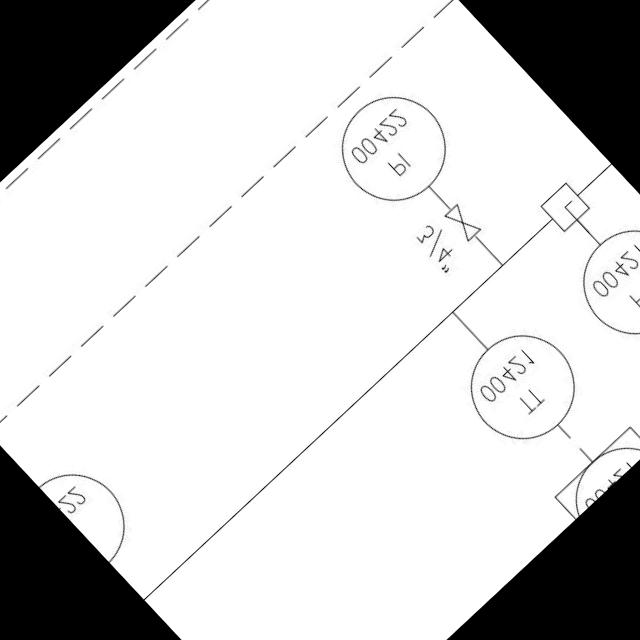GV: (438, 198, 486, 247)
